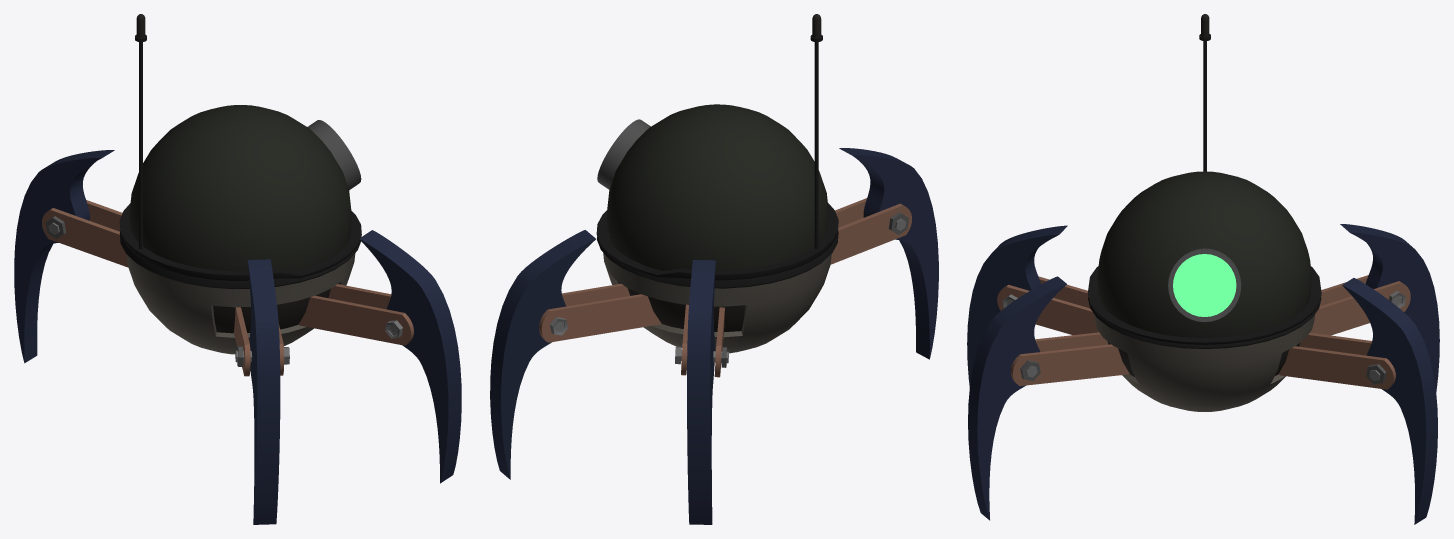
File: aranha.glb
The picture shows the model from 3 angles, left to right: view 1: azimuth 30°, elevation 25°; view 2: azimuth 150°, elevation 25°; view 3: azimuth 270°, elevation 25°; orthographic projection. The views are drawn at different scales.
Parts seen in each view (by area): view 1: Camera; view 2: Camera; view 3: Camera.
Part boxes in pixels (x1,y1,x2,y2): Camera: [14, 14, 461, 524]; Camera: [490, 14, 938, 524]; Camera: [967, 14, 1439, 524].
Bounding box in the file's own units: 1.04 × 1.91 × 1.98.
